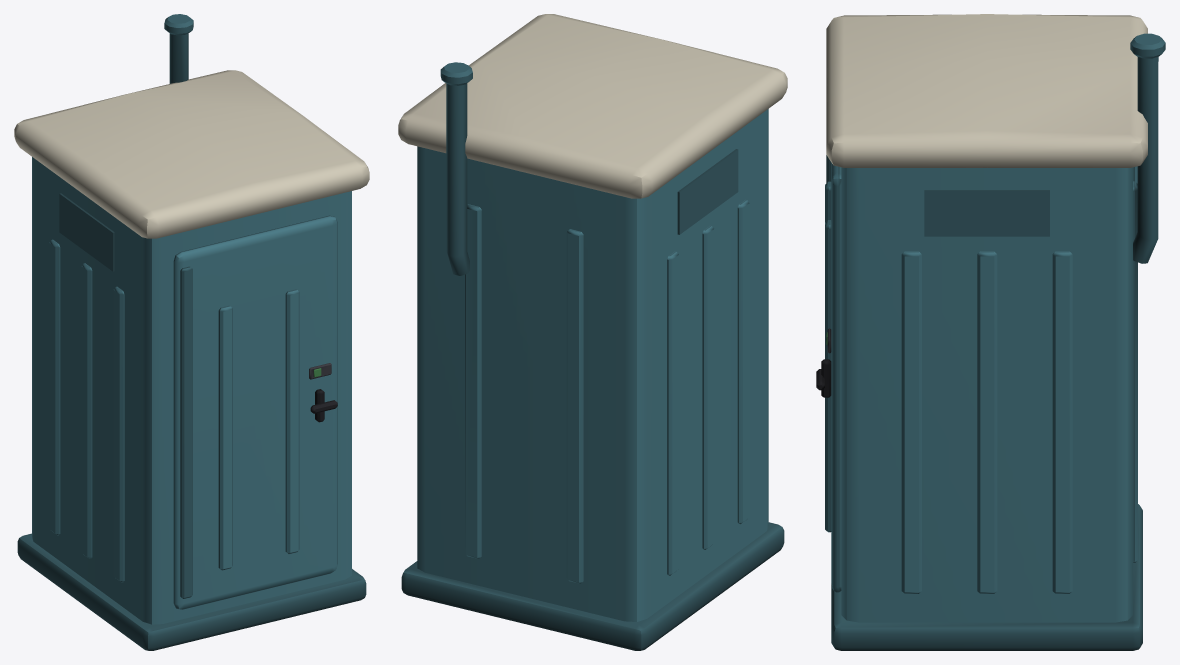
File: PortaLoo.fbx
3 views of the same model, side by side, from view 1: azimuth 30°, elevation 25°; view 2: azimuth 150°, elevation 25°; view 3: azimuth 270°, elevation 25° (orthographic). The views are drawn at different scales.
Parts seen in each view (by area): view 1: PortaLoo; view 2: PortaLoo; view 3: PortaLoo.
Part boxes in pixels (x1,y1,x2,y2): PortaLoo: (14,14,369,650); PortaLoo: (398,14,787,650); PortaLoo: (816,14,1165,650).
Bounding box in the file's own units: 1.24 × 2.56 × 1.39.
